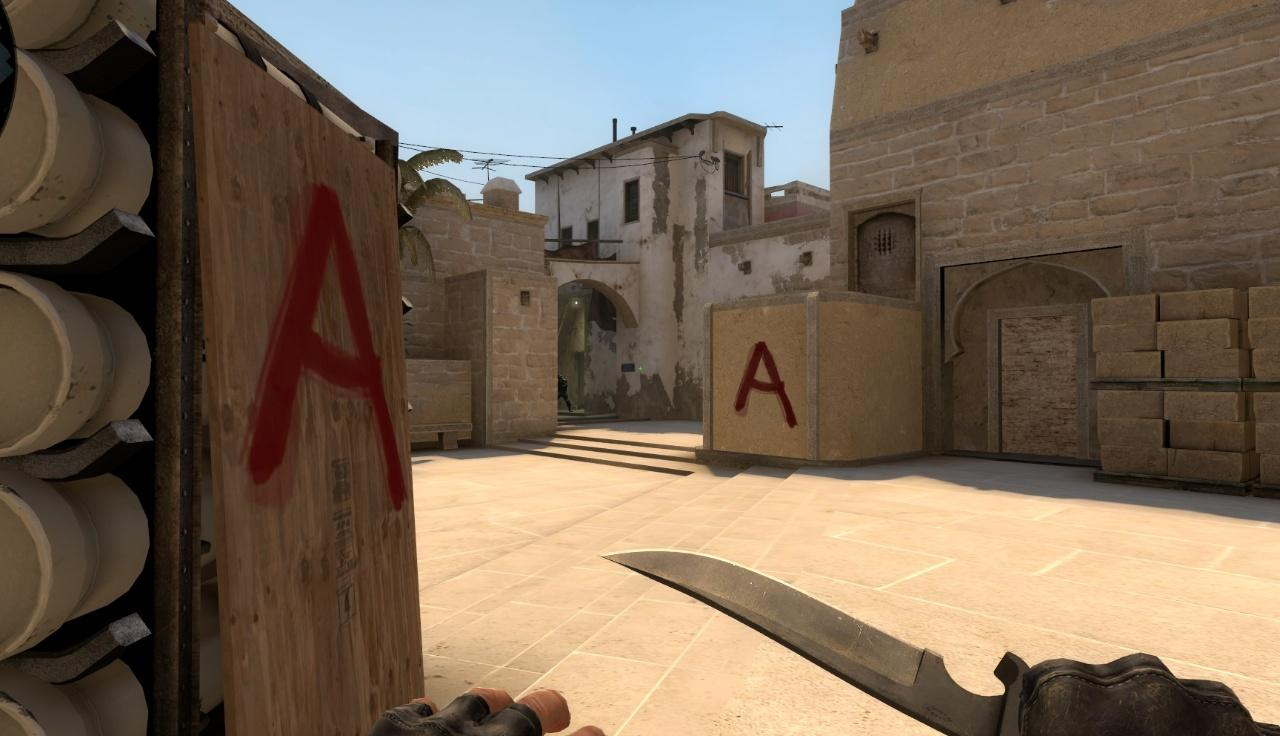ct: (558, 375, 572, 412)
cthead: (558, 374, 564, 380)
